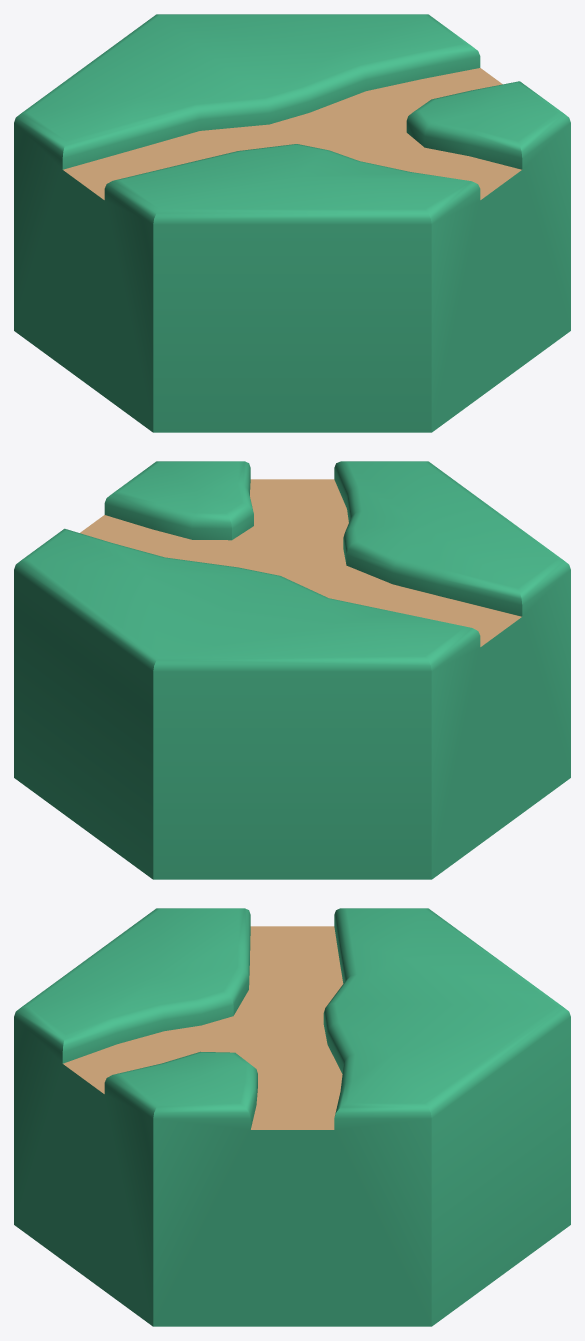
File: kaykit-hex-forest-roade.glb
The picture shows the model from 3 angles, top to bottom: view 1: azimuth 30°, elevation 25°; view 2: azimuth 150°, elevation 25°; view 3: azimuth 270°, elevation 25°; orthographic projection.
Parts seen in each view (by area): view 1: hex_forest_roadE; view 2: hex_forest_roadE; view 3: hex_forest_roadE.
Part boxes in pixels (<box>): hex_forest_roadE: <box>14,14,570,432</box>; hex_forest_roadE: <box>14,461,570,879</box>; hex_forest_roadE: <box>14,908,570,1326</box>.
Size of the model in its own units: 2 by 1 by 2.31.
